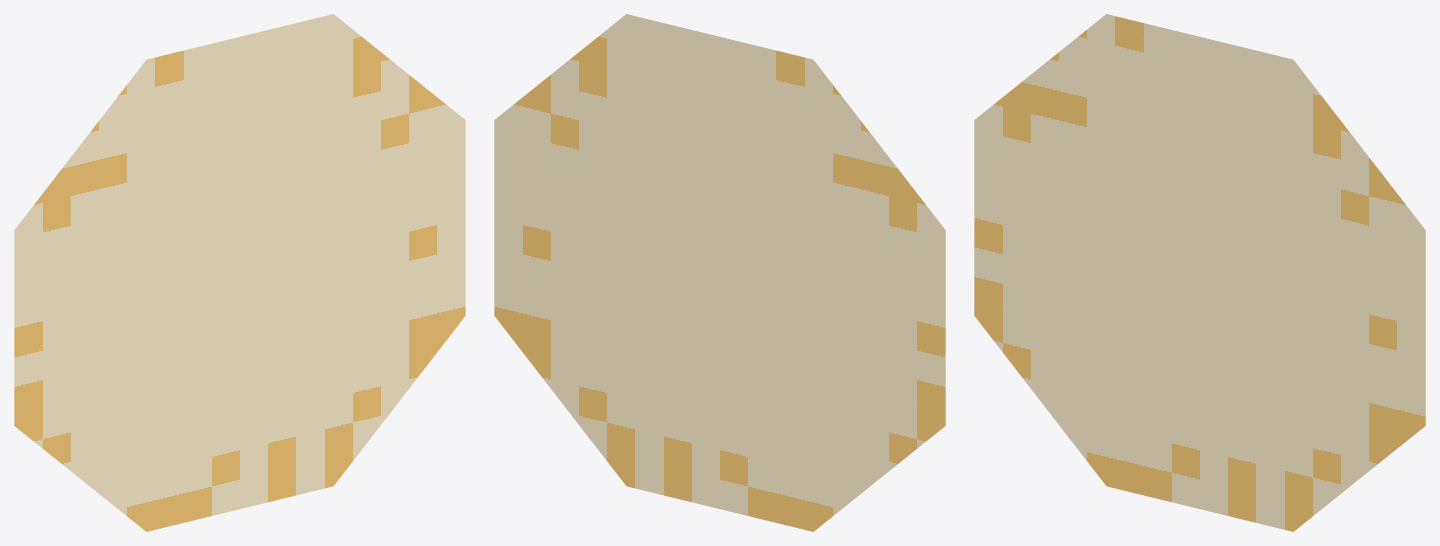
Rendered from wsky.sun.glb.
The picture shows the model from 3 angles, left to right: view 1: azimuth 30°, elevation 25°; view 2: azimuth 150°, elevation 25°; view 3: azimuth 330°, elevation 25°; orthographic projection.
Parts seen in each view (by area): view 1: kit_card_disc; view 2: kit_card_disc; view 3: kit_card_disc.
Part boxes in pixels (<box>): kit_card_disc: <box>14,14,465,531</box>; kit_card_disc: <box>494,14,945,531</box>; kit_card_disc: <box>974,14,1425,531</box>.
Size of the model in its own units: 2.77 by 2.77 by 0.
Materials: 1 (1 with a texture image).
